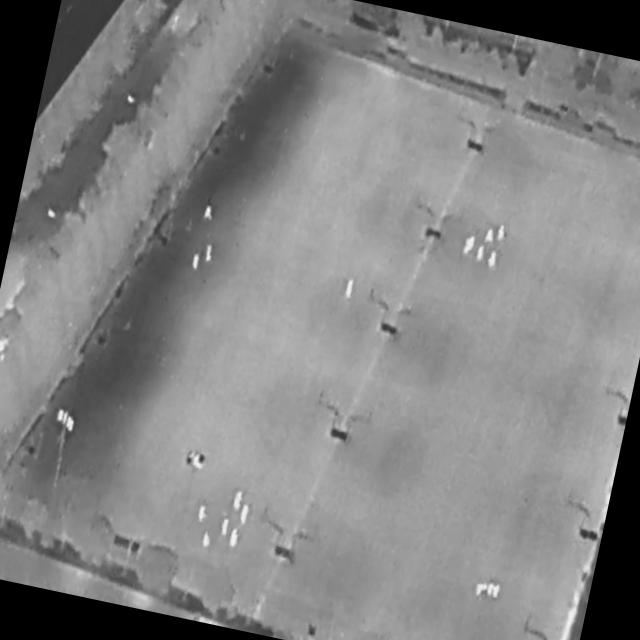person: (228, 528, 241, 550), (232, 490, 245, 512), (487, 250, 500, 271), (219, 518, 231, 538), (238, 505, 250, 525), (345, 279, 356, 300), (197, 505, 209, 524), (204, 244, 215, 264), (202, 530, 213, 549), (496, 225, 507, 242), (485, 228, 496, 244), (191, 253, 201, 270), (204, 206, 215, 221), (463, 237, 472, 255), (476, 245, 485, 262), (468, 236, 477, 253)
